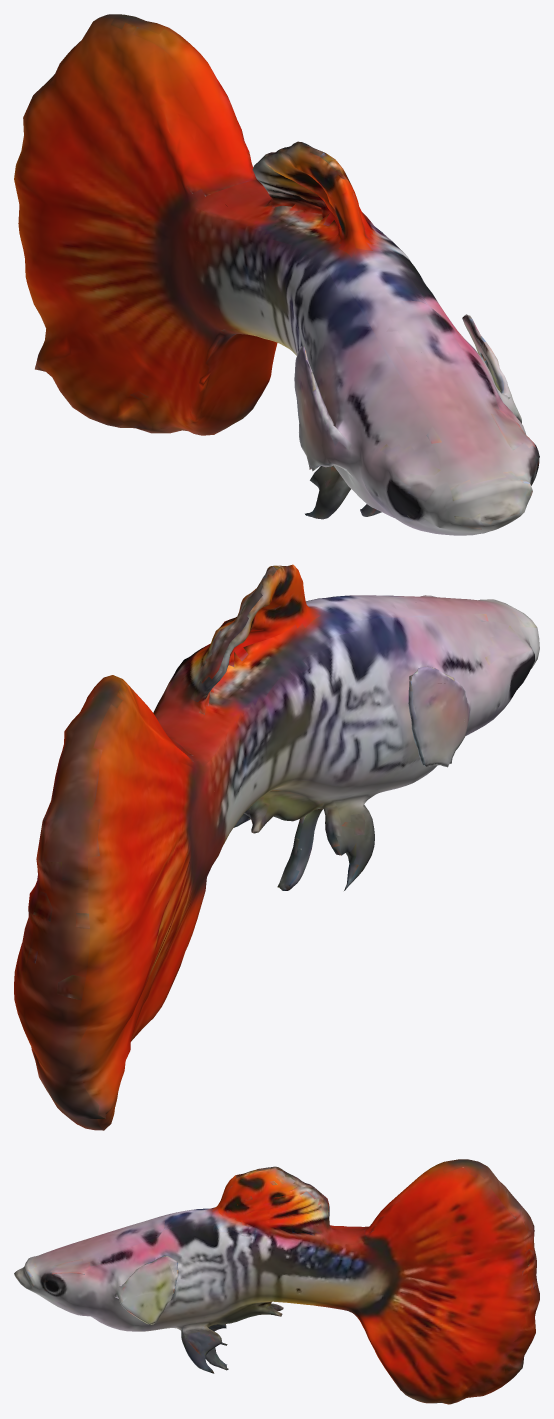
Rendered from strain-red_cobra.glb.
3 views of the same model, one above another, from view 1: azimuth 30°, elevation 25°; view 2: azimuth 150°, elevation 25°; view 3: azimuth 270°, elevation 25° (orthographic). The views are drawn at different scales.
Visible parts, largest first — view 1: Mesh_0.001; view 2: Mesh_0.001; view 3: Mesh_0.001.
Part boxes in pixels (x1,y1,x2,y2): Mesh_0.001: (14, 14, 539, 535); Mesh_0.001: (14, 564, 539, 1130); Mesh_0.001: (14, 1159, 539, 1404).
Size of the model in its own units: 0.00808 by 0.0168 by 0.0338.
Materials: 2 (2 with a texture image).
